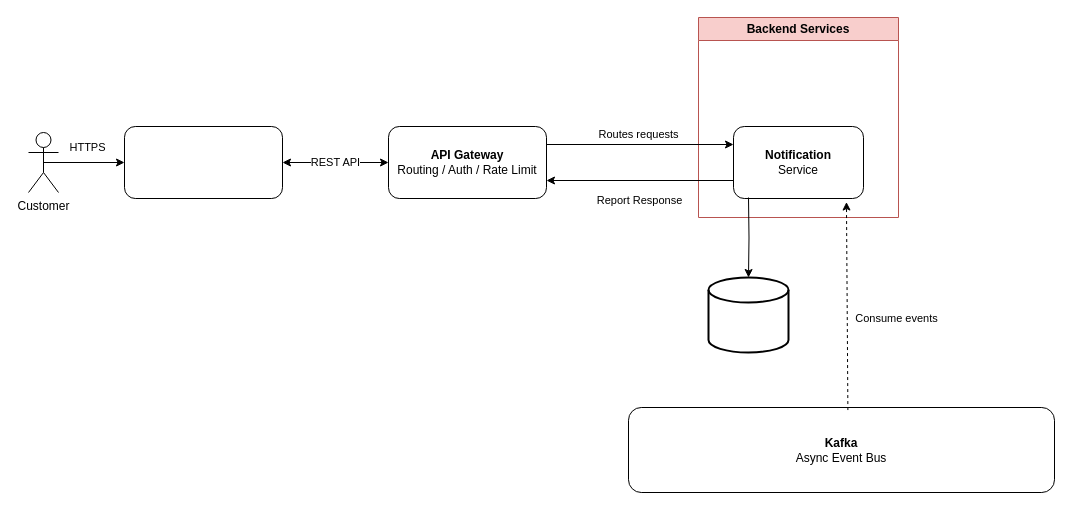
Image size: 1072x510. Some labels were removed from this diagram. Each missing label, with the centre of its shape:
Notification DB: the point at 748,314
React Frontend UI / Client: the point at 203,162
